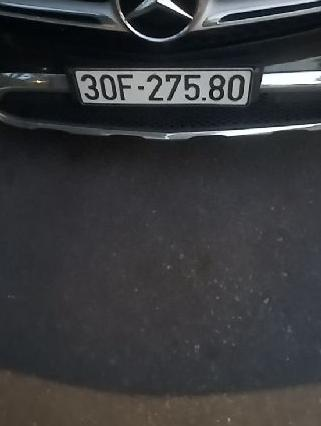Plate-iWeP: (80, 71, 252, 107)
